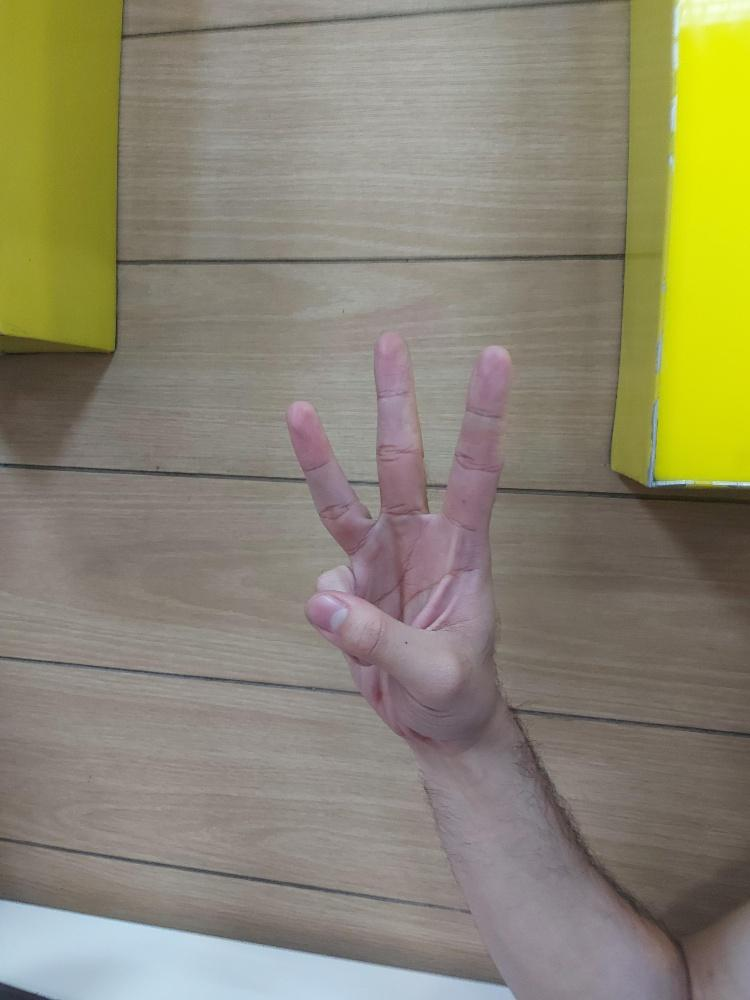w: (280, 323, 516, 740)
